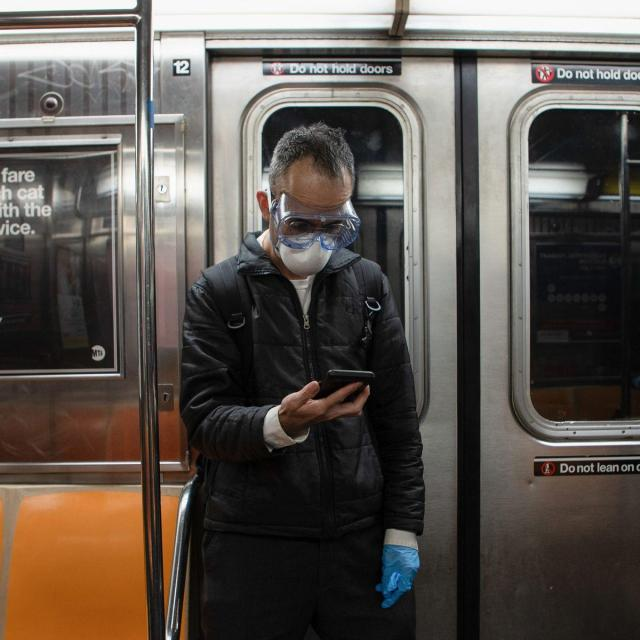Gloves: (381, 543, 422, 608)
Goggles: (269, 191, 360, 250)
Mask: (279, 234, 334, 277)
